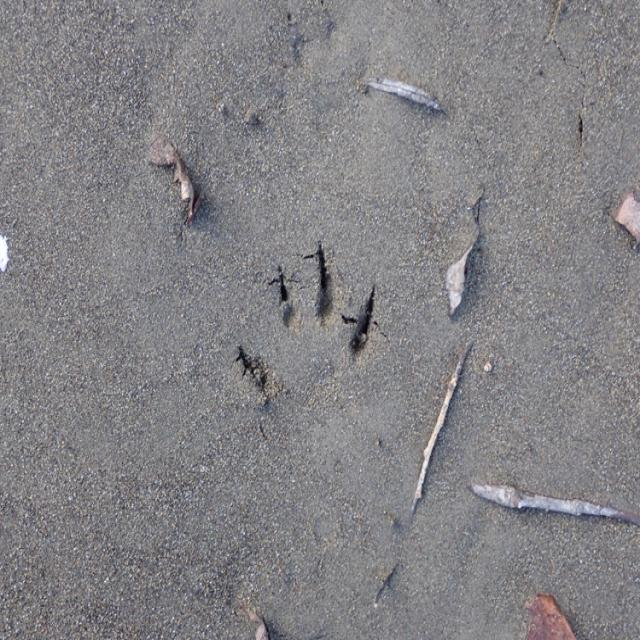mustelid: (238, 243, 376, 434)
